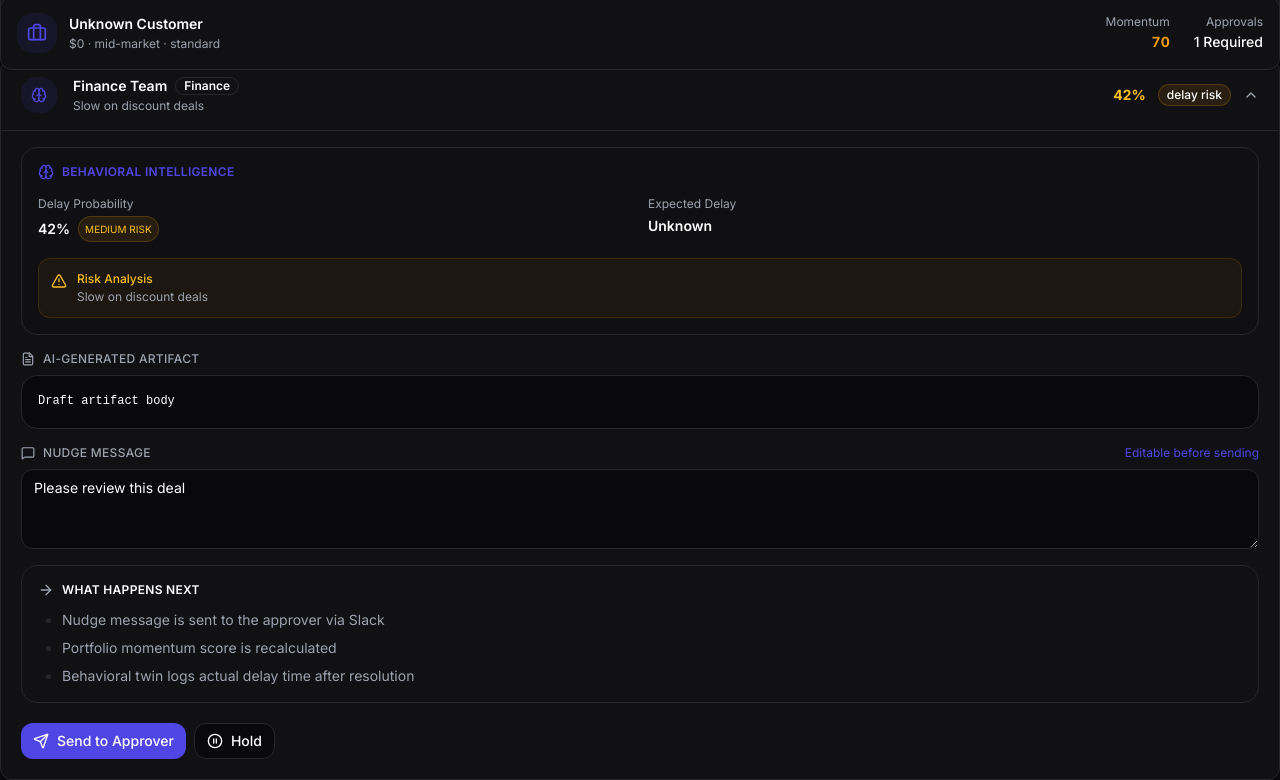
review flow › persists settled statuses back to the mirror
(page scrolled)
Click the button "Send to Approver". click: click(103, 740)
box: [21,722,186,758]
(page scrolled)
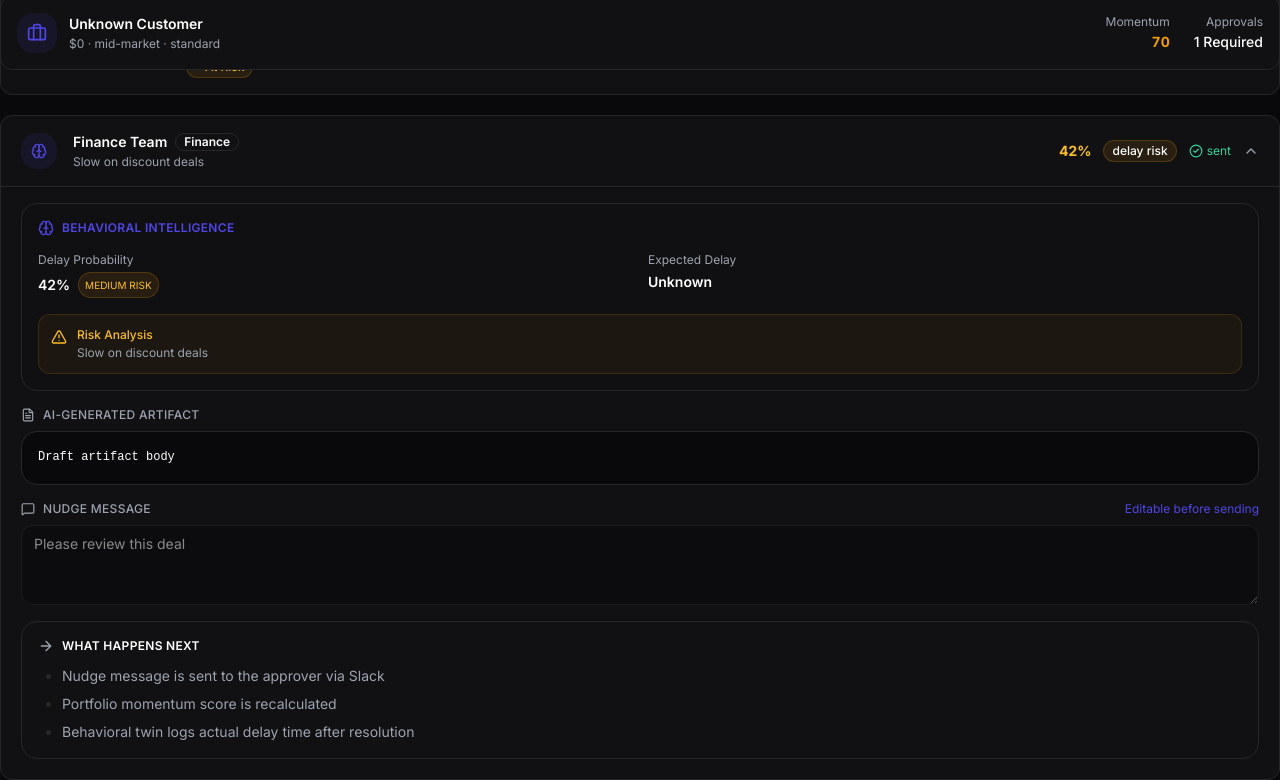
Now the text "sent" is shown, box [1189,143,1231,159]
